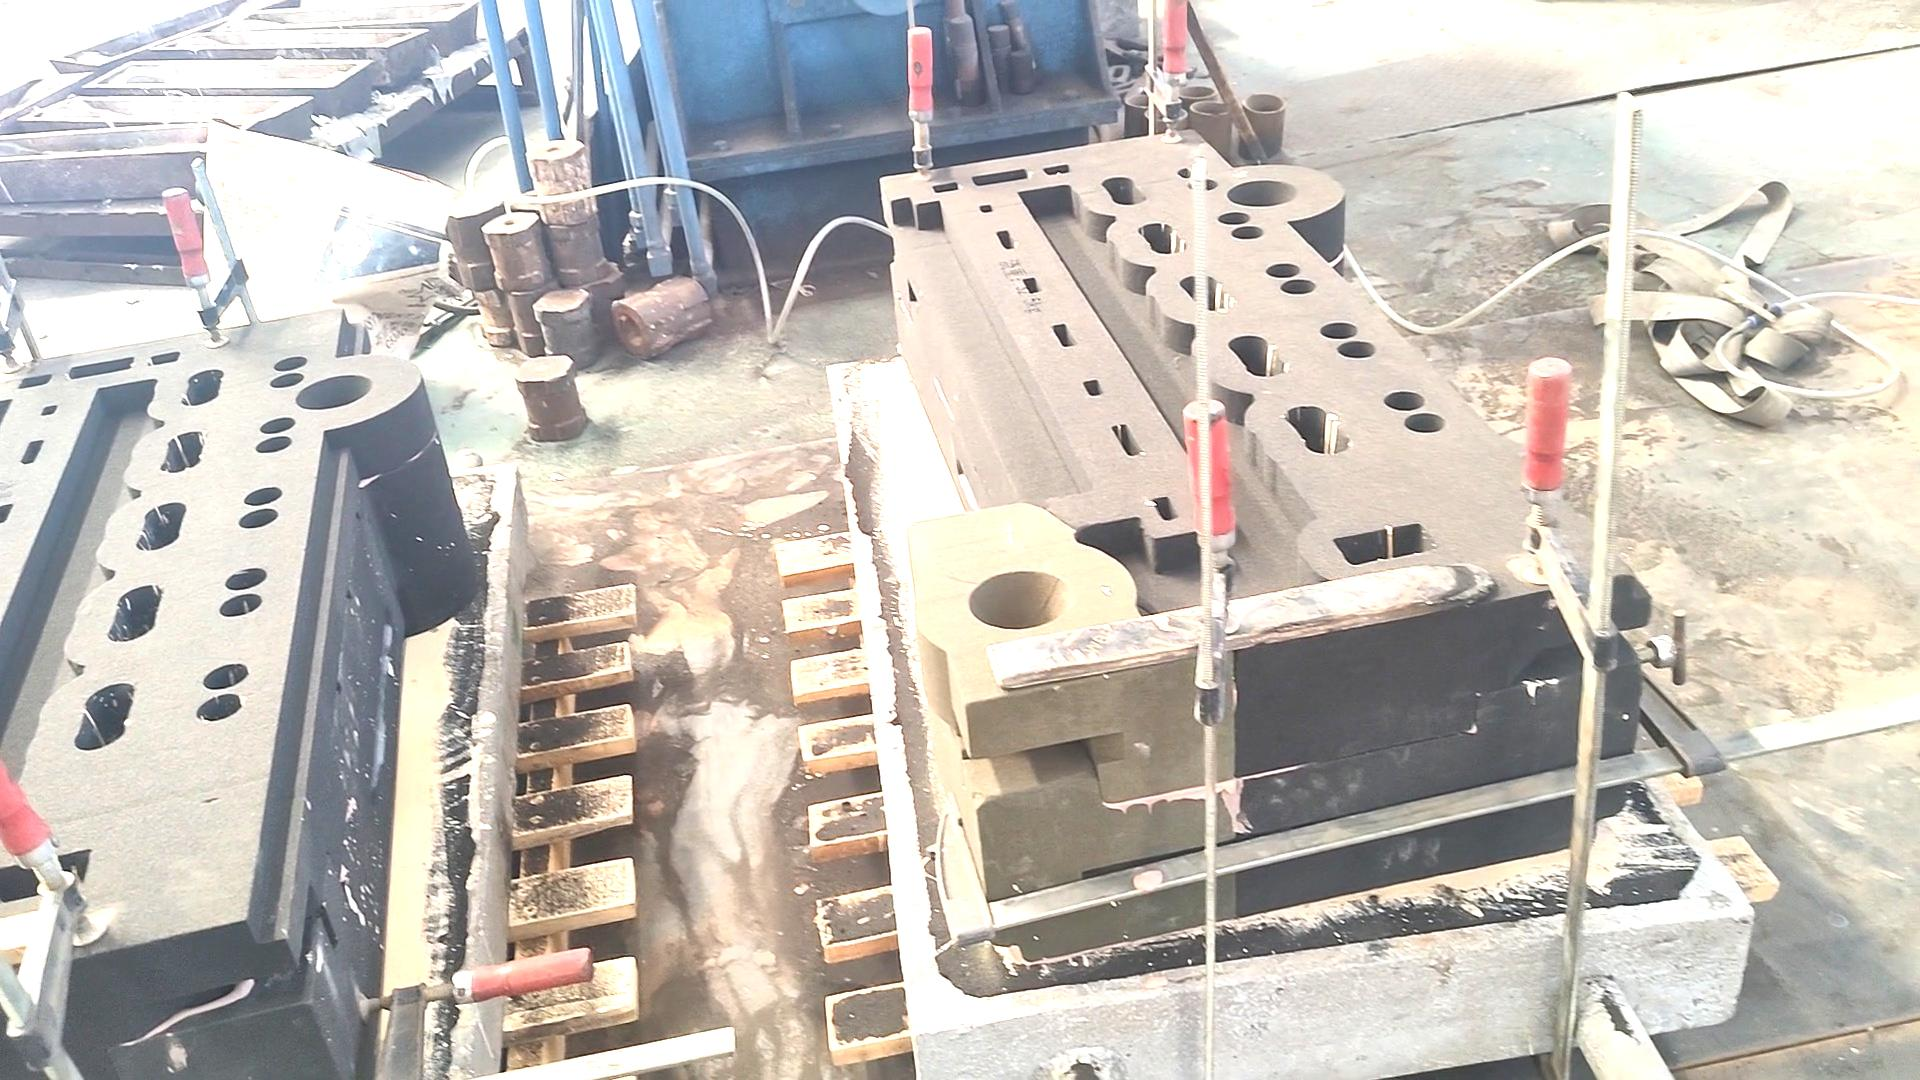pouring hole: (967, 570, 1069, 629), (295, 375, 375, 409), (1225, 179, 1300, 207), (1244, 92, 1284, 113), (1145, 107, 1188, 123), (1189, 102, 1233, 115), (1178, 84, 1216, 99), (1124, 94, 1158, 109), (1149, 96, 1183, 105)
